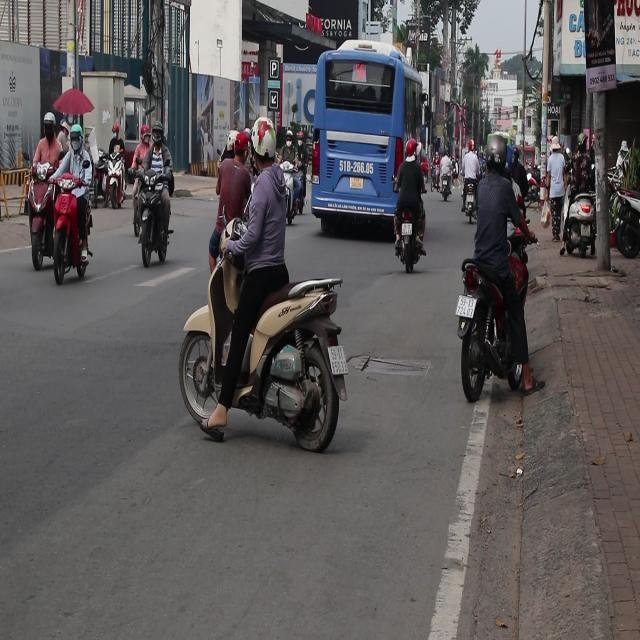bus: (307, 42, 426, 240)
motorbike: (180, 233, 356, 467), (452, 270, 547, 433), (28, 131, 96, 282), (185, 220, 239, 312), (133, 163, 174, 276), (393, 211, 425, 274), (134, 160, 158, 238), (268, 153, 294, 223), (103, 151, 127, 209), (287, 164, 304, 214), (432, 170, 448, 205), (466, 170, 474, 227), (525, 182, 540, 212)
